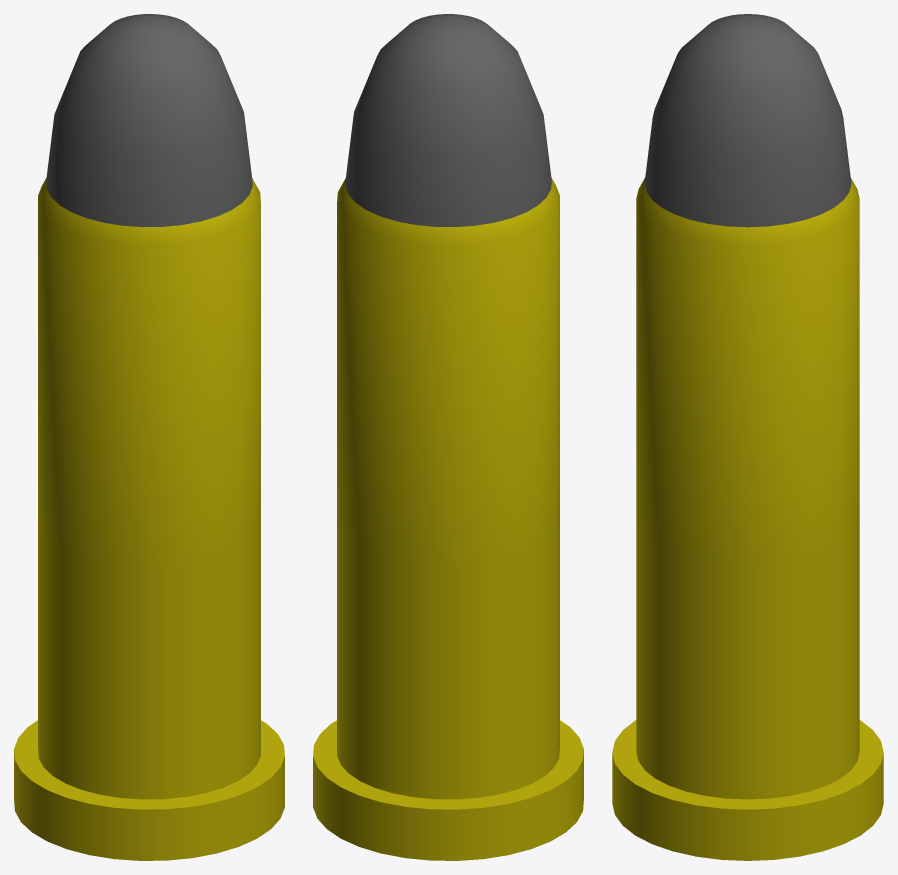
File: simple_bullet.glb
3 renders of one model, left to right at view 1: azimuth 30°, elevation 25°; view 2: azimuth 150°, elevation 25°; view 3: azimuth 270°, elevation 25°, orthographic.
Parts seen in each view (by area): view 1: Object_3, Object_2; view 2: Object_3, Object_2; view 3: Object_3, Object_2.
Part boxes in pixels (<box>): Object_3: <box>14,178,284,860</box>; Object_2: <box>46,14,252,226</box>; Object_3: <box>313,178,583,860</box>; Object_2: <box>345,14,551,226</box>; Object_3: <box>612,177,883,860</box>; Object_2: <box>644,14,851,227</box>.
Size of the model in its own units: 0.00921 by 0.0293 by 0.00921.
2 materials, 2 textured.
